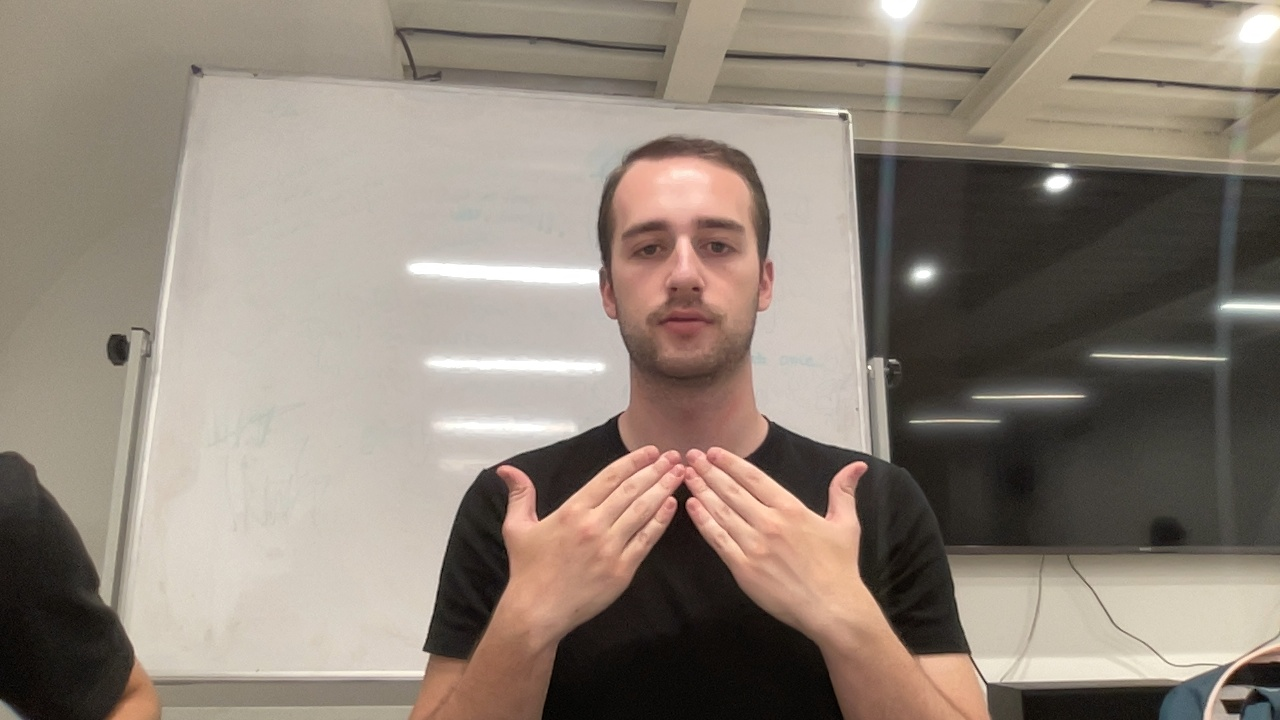Thank You: (490, 441, 874, 663)
